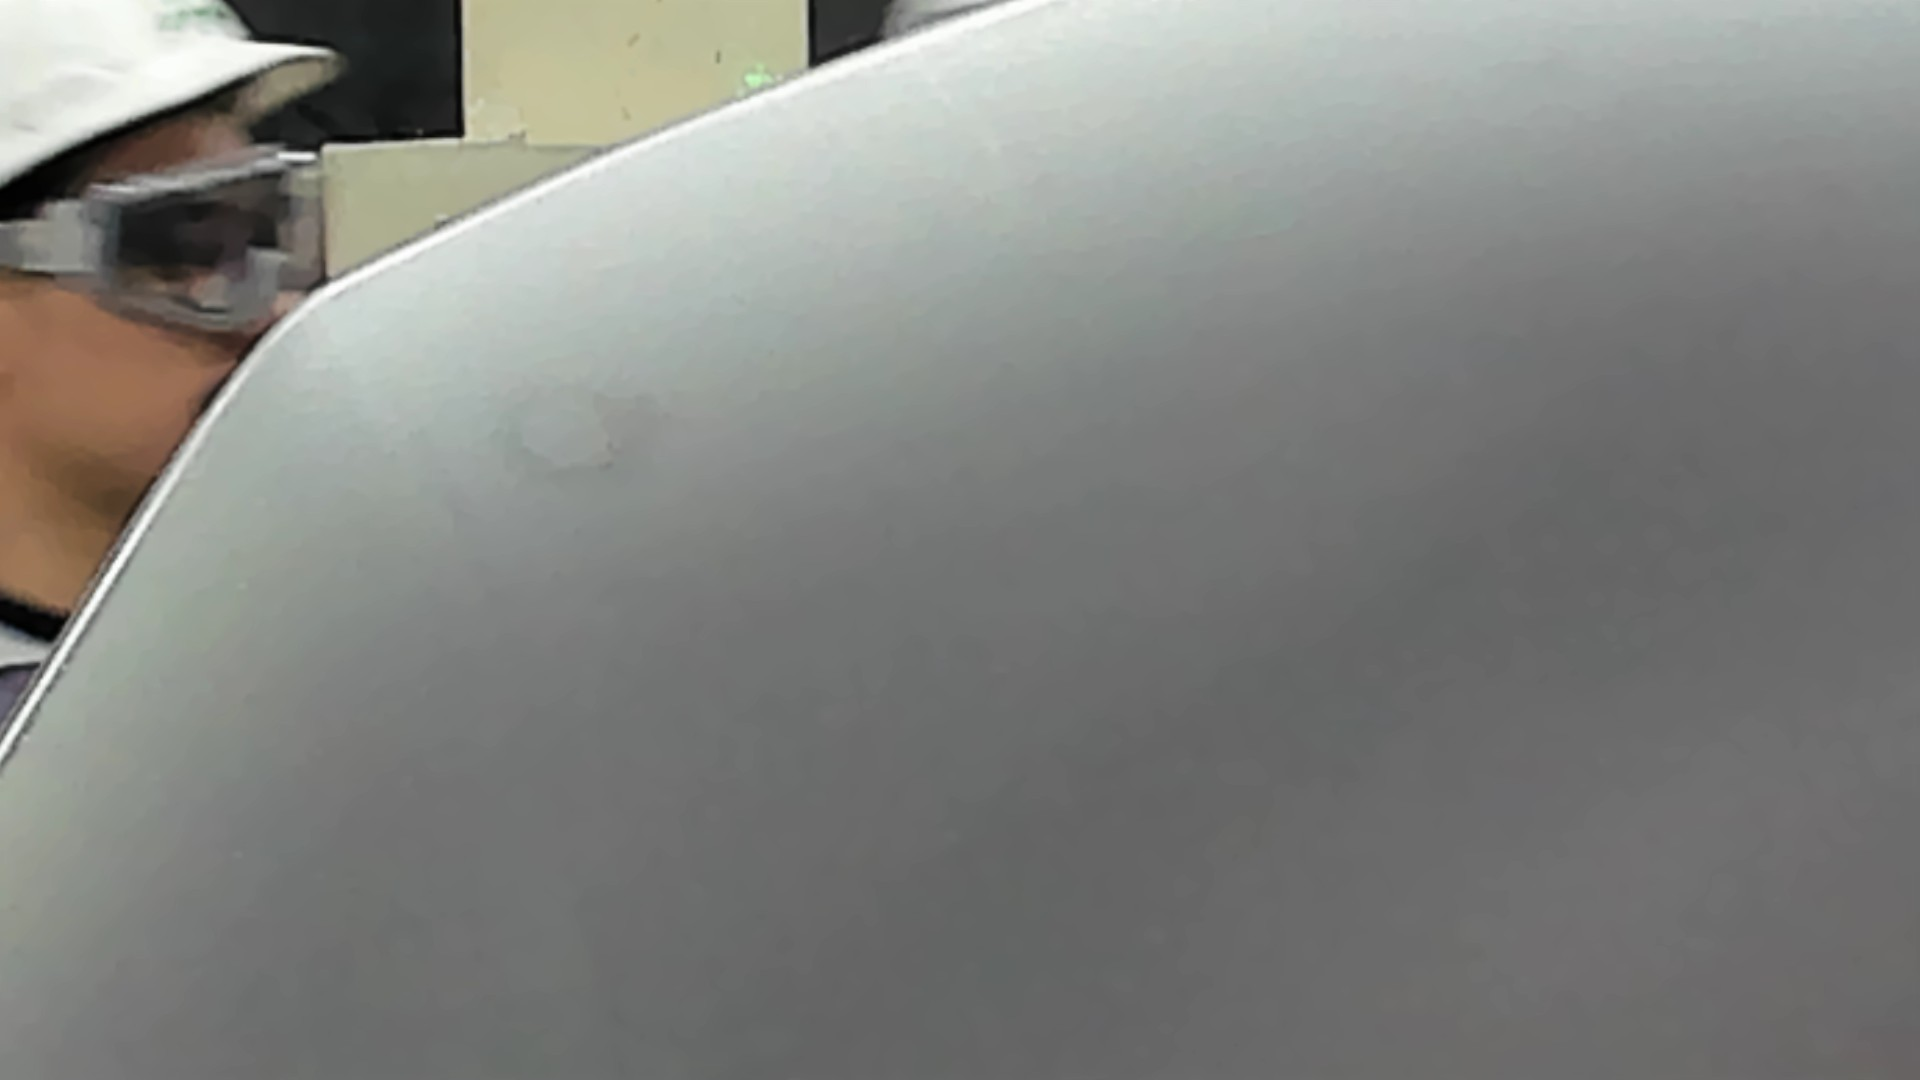capo: (629, 166, 1920, 1080)
